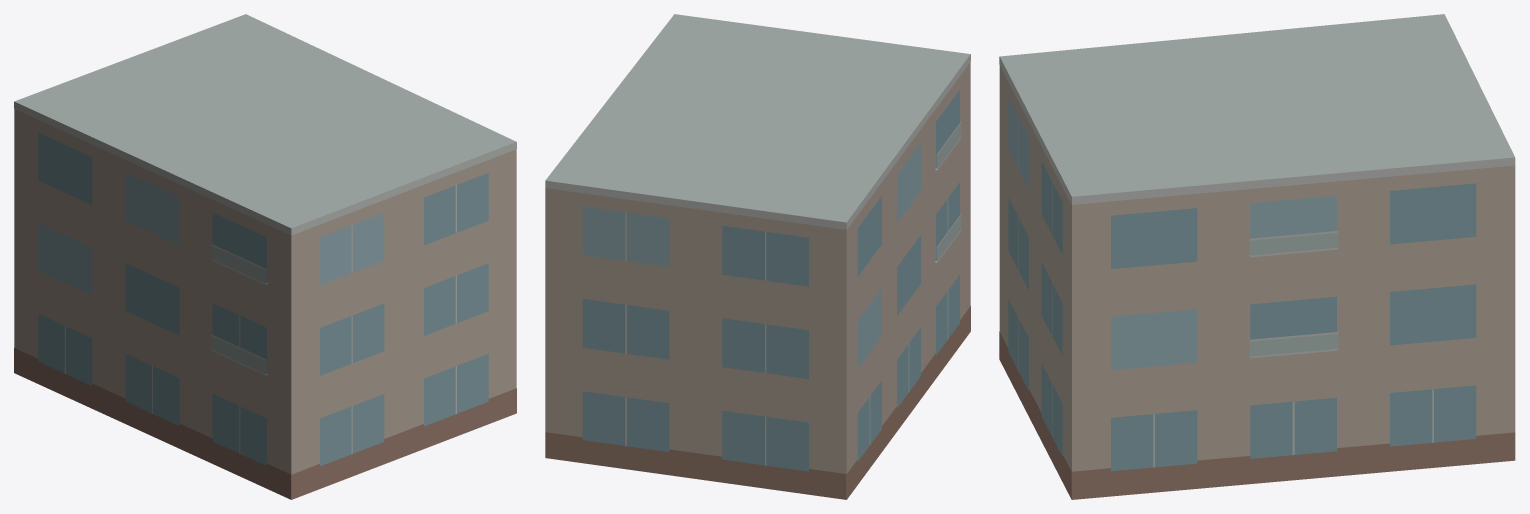
The model's file is survey-upis-32611634.glb.
3 renders of one model, left to right at view 1: azimuth 30°, elevation 25°; view 2: azimuth 150°, elevation 25°; view 3: azimuth 270°, elevation 25°, orthographic. The views are drawn at different scales.
Visible parts, largest first — view 1: survey-upis-32611634.tmp; view 2: survey-upis-32611634.tmp; view 3: survey-upis-32611634.tmp.
Part boxes in pixels (x1,y1,x2,y2): survey-upis-32611634.tmp: [14, 14, 516, 499]; survey-upis-32611634.tmp: [545, 14, 970, 499]; survey-upis-32611634.tmp: [999, 14, 1515, 499].
Size of the model in its own units: 11.85 by 9.15 by 14.12.
